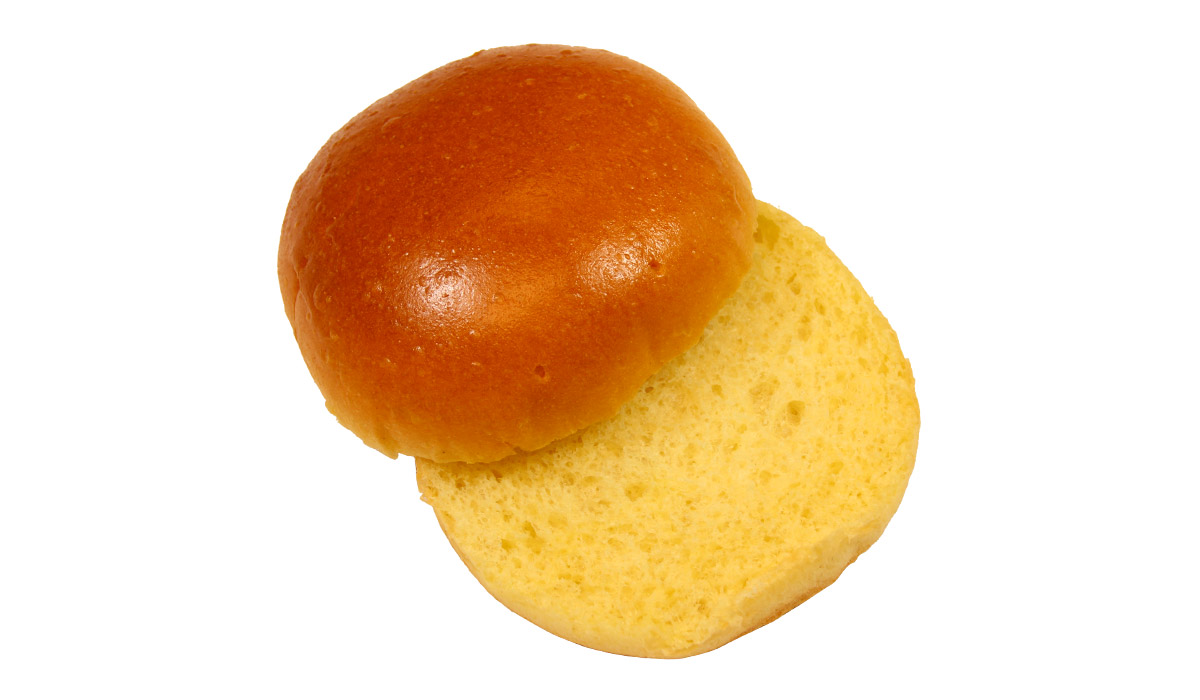hamburger_buns: (267, 4, 945, 663)
